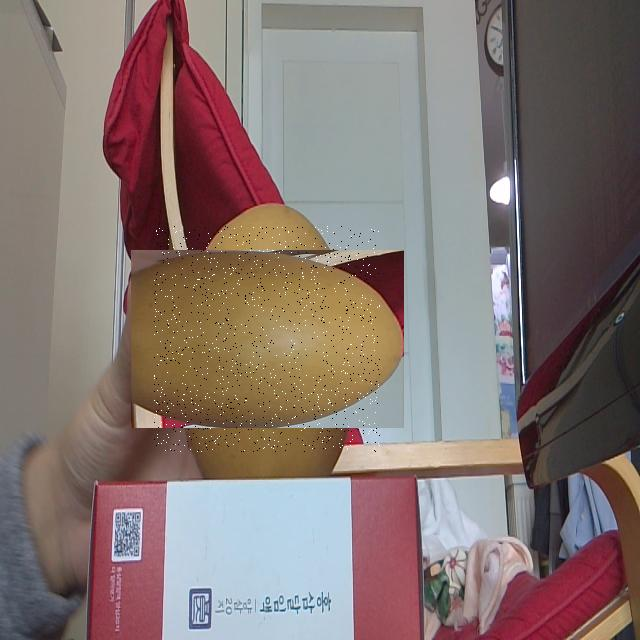pear: (154, 226, 380, 452)
